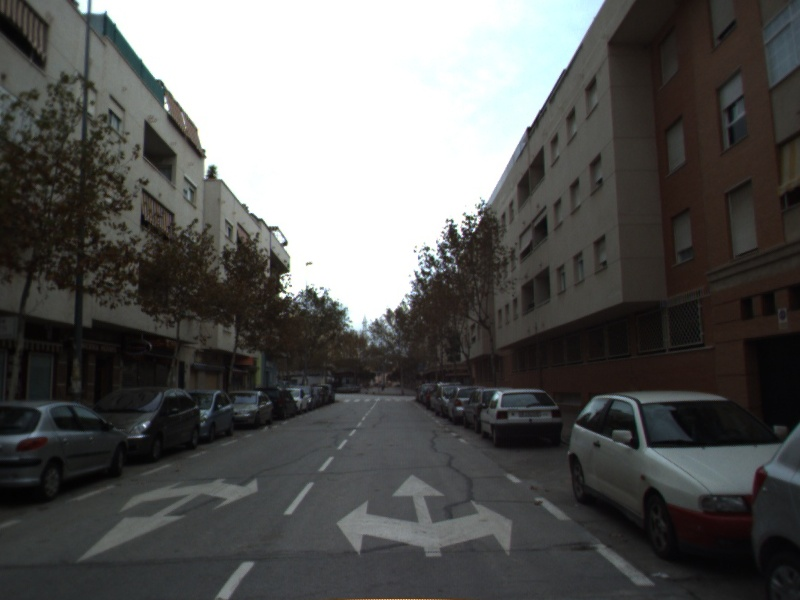STRAIGHT_LEFT_RIGHT: (334, 471, 516, 559)
